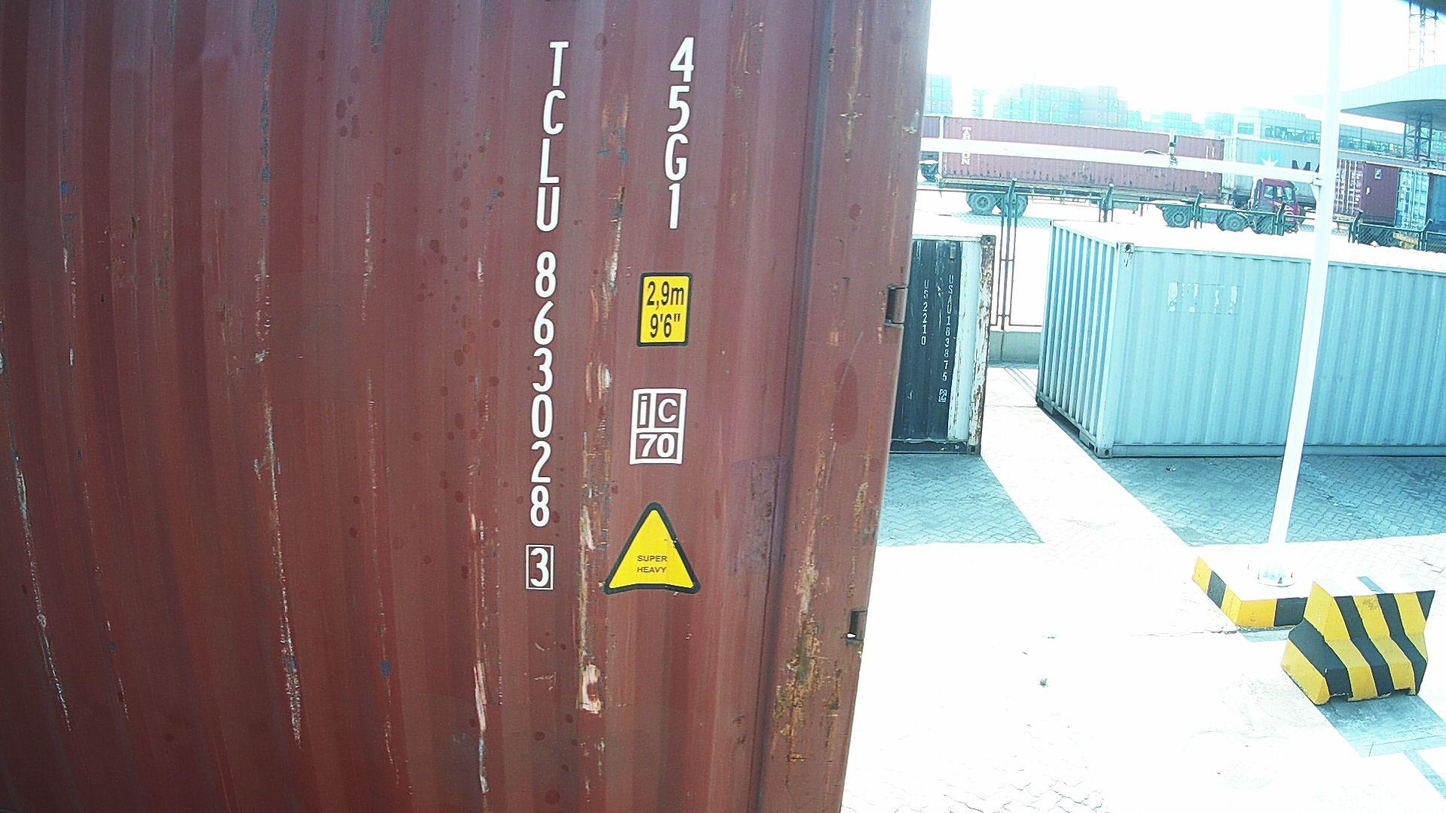container-numbers: (517, 37, 568, 598), (655, 33, 701, 236)
